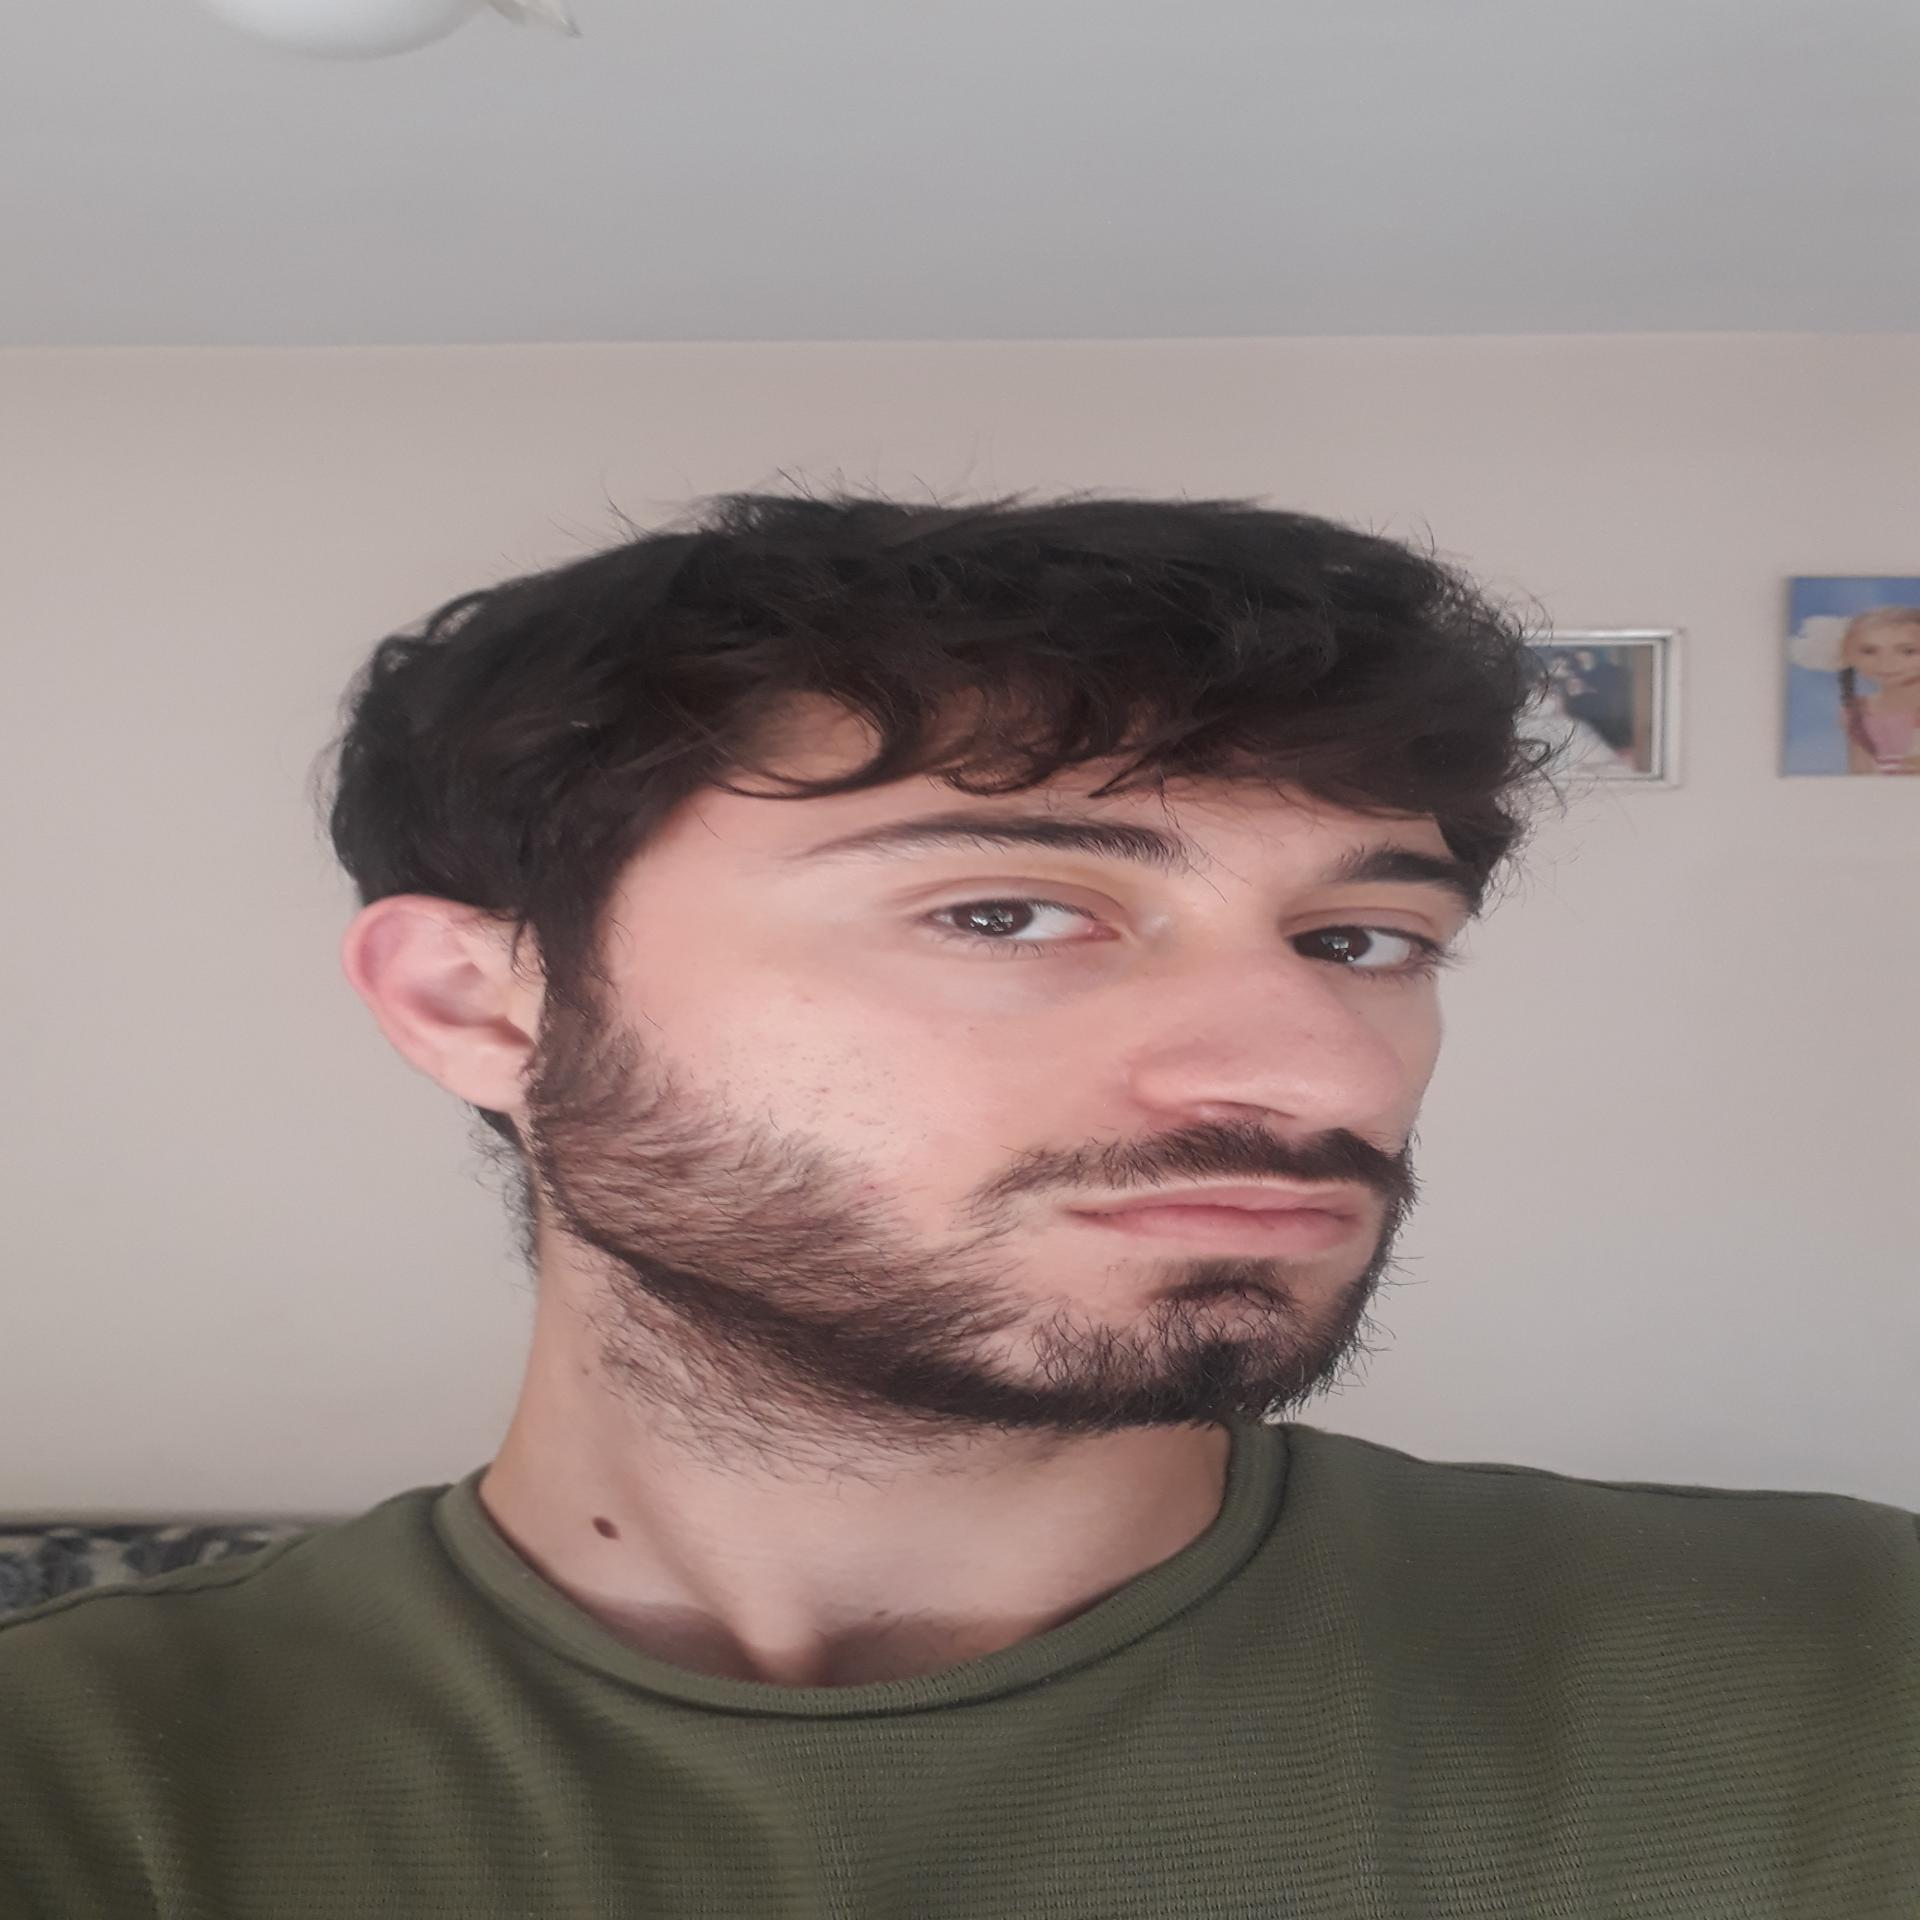Acne: (851, 1182, 879, 1215), (788, 988, 828, 1011), (1102, 1252, 1134, 1278), (1298, 1029, 1322, 1050), (807, 1081, 837, 1095)
